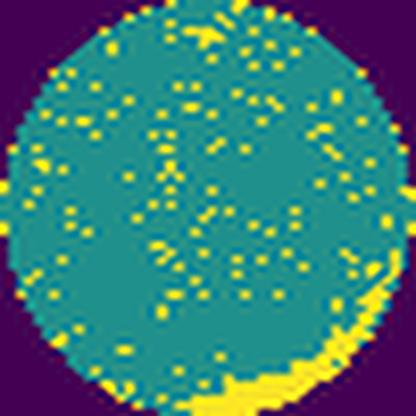Edge-Loc: (165, 227, 413, 416)
